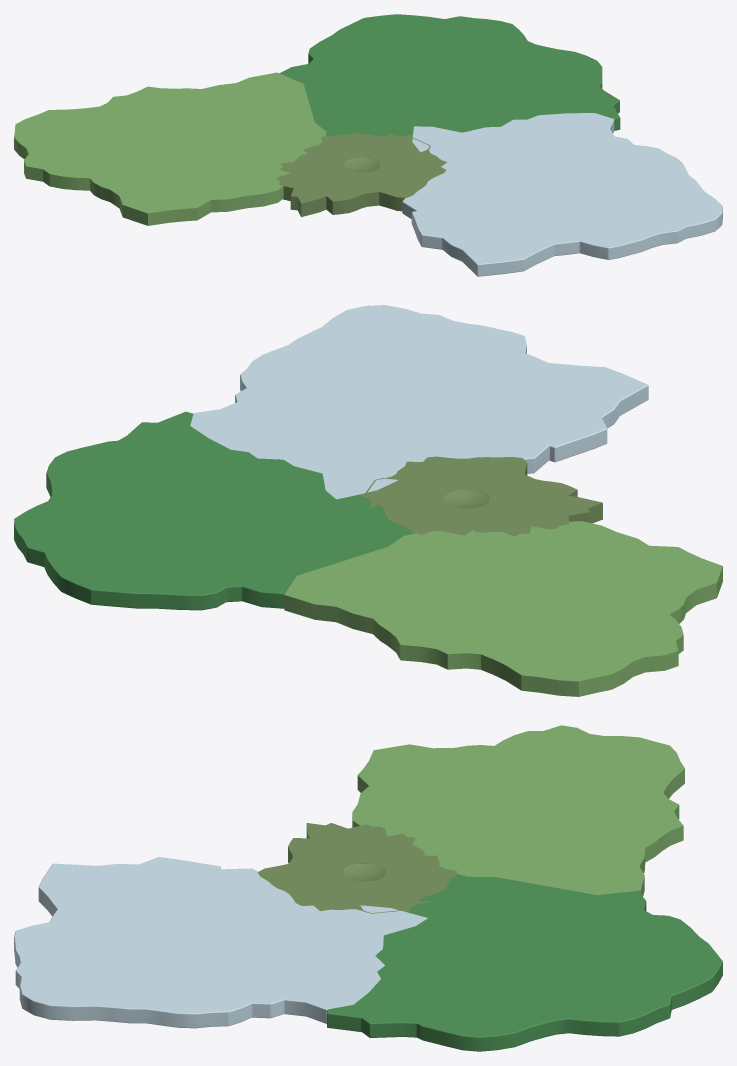
File: TerrainFour.fbx
3 views of the same model, one above another, from view 1: azimuth 30°, elevation 25°; view 2: azimuth 150°, elevation 25°; view 3: azimuth 270°, elevation 25° (orthographic). The views are drawn at different scales.
Visible parts, largest first — view 1: Fate Isle Continent.003, Fate Isle Continent.002, Fate Isle Continent.004, Fate Isle Continent; view 2: Fate Isle Continent.003, Fate Isle Continent.002, Fate Isle Continent.004, Fate Isle Continent; view 3: Fate Isle Continent.003, Fate Isle Continent.004, Fate Isle Continent.002, Fate Isle Continent.
Part boxes in pixels (x1,y1,x2,y2): Fate Isle Continent.003: (402, 113, 722, 276); Fate Isle Continent.002: (14, 72, 326, 225); Fate Isle Continent.004: (279, 14, 620, 136); Fate Isle Continent: (277, 132, 447, 217); Fate Isle Continent.003: (190, 305, 648, 499); Fate Isle Continent.002: (284, 521, 722, 696); Fate Isle Continent.004: (14, 411, 415, 610); Fate Isle Continent: (359, 456, 602, 536); Fate Isle Continent.003: (14, 857, 427, 1028); Fate Isle Continent.004: (327, 874, 722, 1051); Fate Isle Continent.002: (352, 725, 684, 896); Fate Isle Continent: (257, 823, 456, 913).
Size of the model in its own units: 165 by 4.03 by 159.
